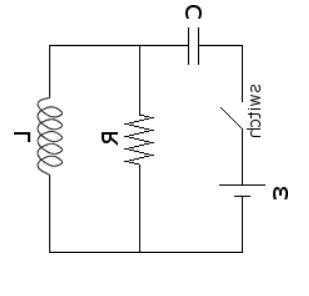Capacitor: (171, 15, 220, 71)
